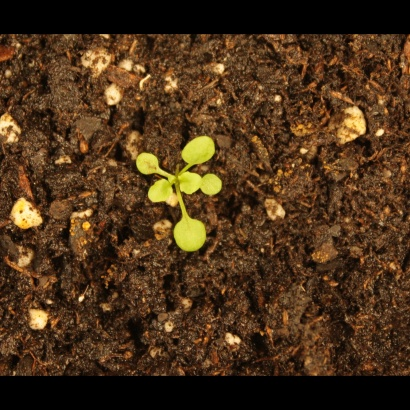leaf: (170, 218, 211, 256), (178, 133, 218, 169), (134, 149, 162, 179), (148, 179, 173, 207), (177, 170, 203, 196), (200, 173, 227, 198)
